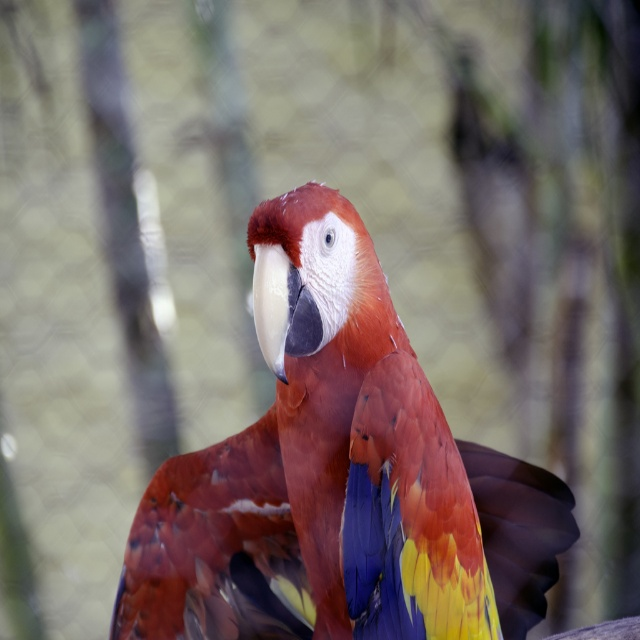Parrot: (108, 181, 582, 639)
